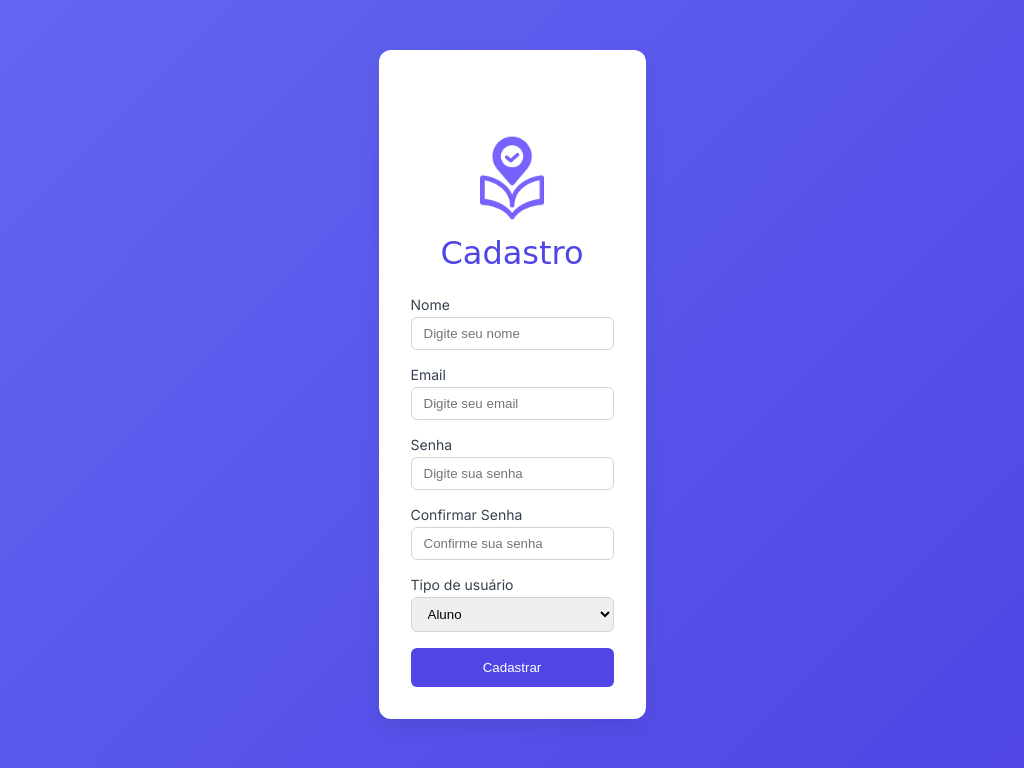
Test: Register page › shows validation error when passwords mismatch
Step 1. Select "Professor" in the dropdown → point(512, 614), box 410,596 -> 614,632
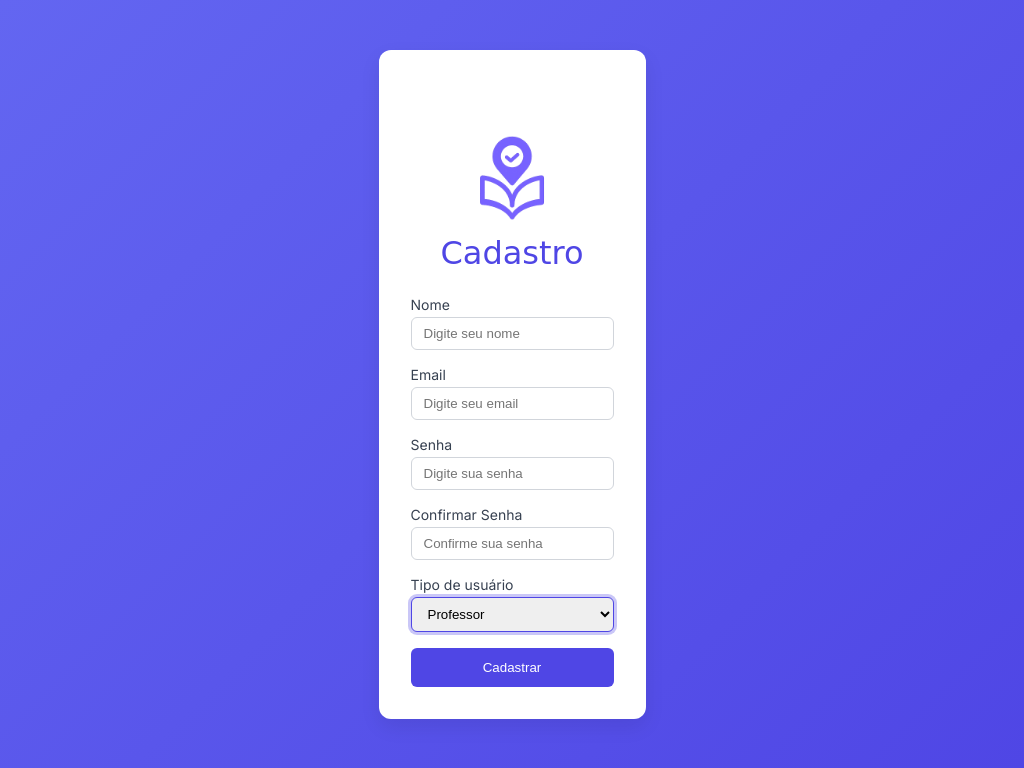
Step 2. Type "Foo" into the field with placeholder "Digite seu nome" → point(512, 333), box 410,316 -> 614,350
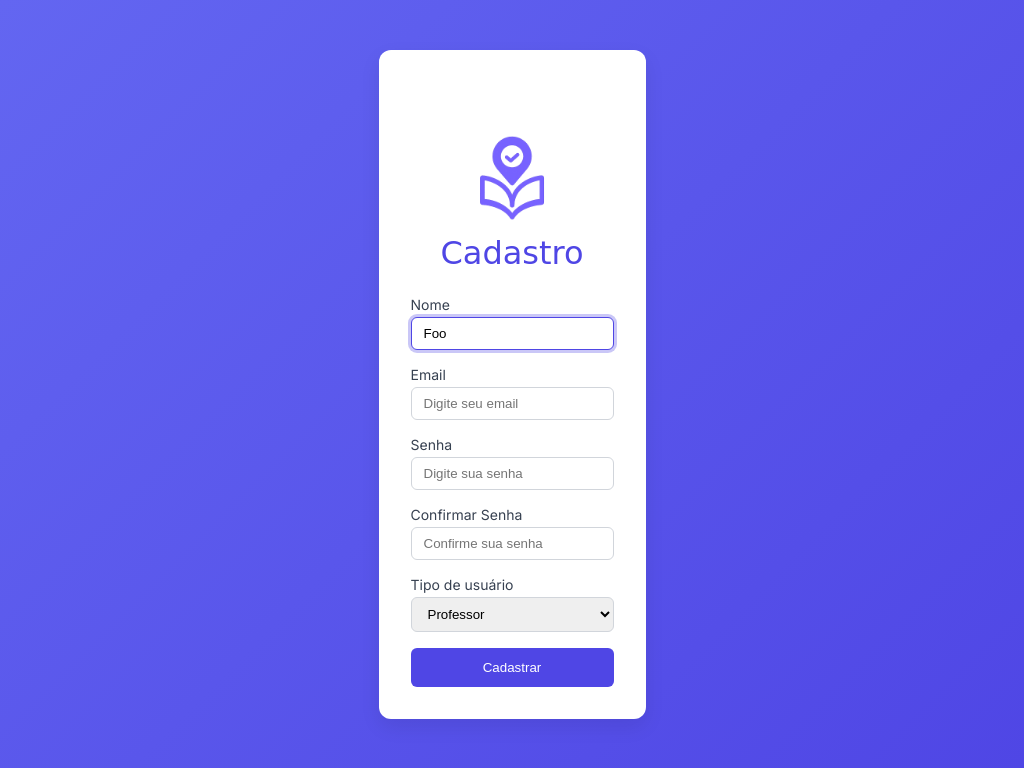
Step 3. Type "foo@test.com" into the field with placeholder "Digite seu email" → point(512, 403), box 410,386 -> 614,420
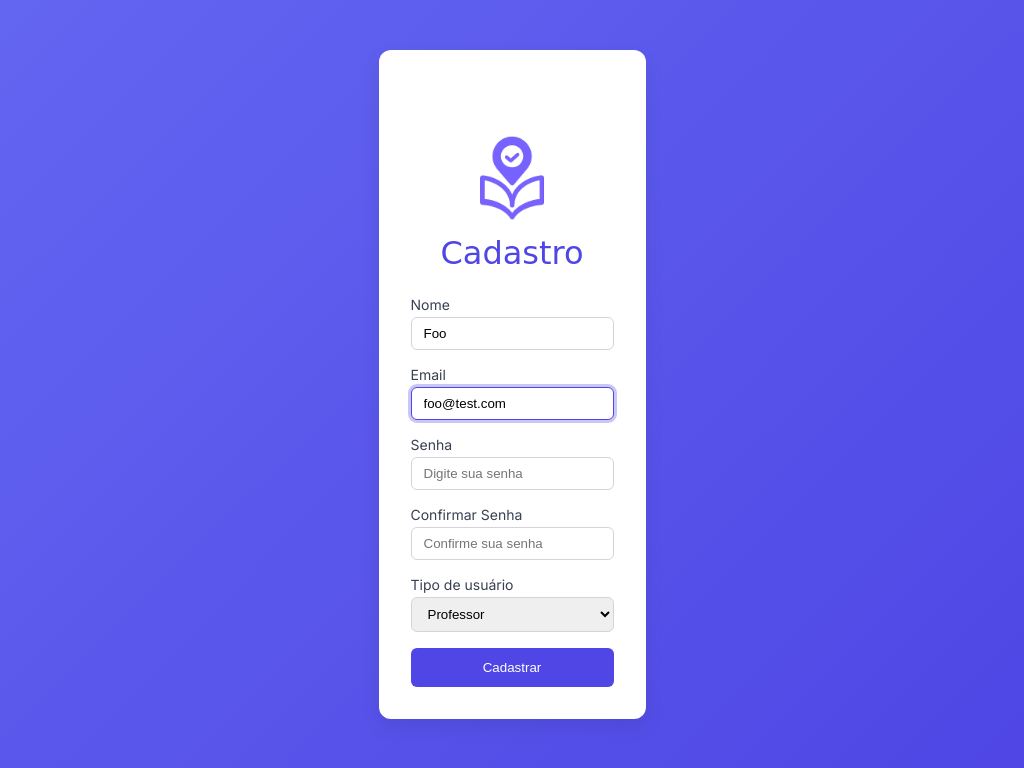
Step 4. Type "123456" into the password field with placeholder "Digite sua senha" → point(512, 473), box 410,456 -> 614,490
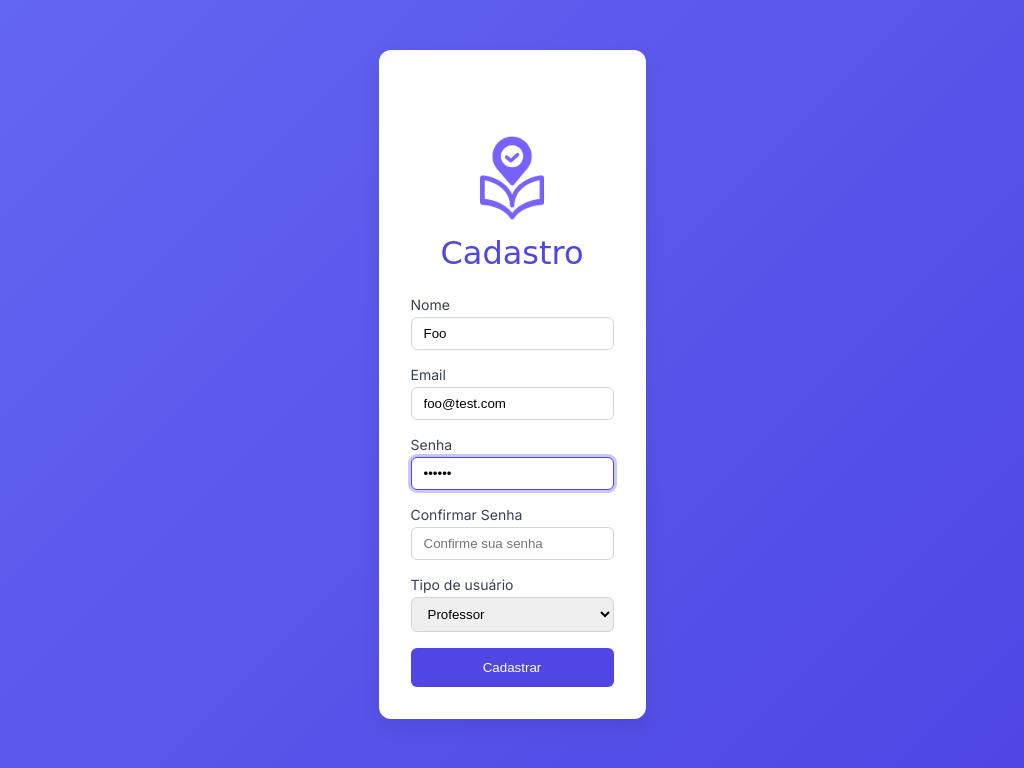
Step 5. Type "654321" into the password field with placeholder "Confirme sua senha" → point(512, 543), box 410,526 -> 614,560
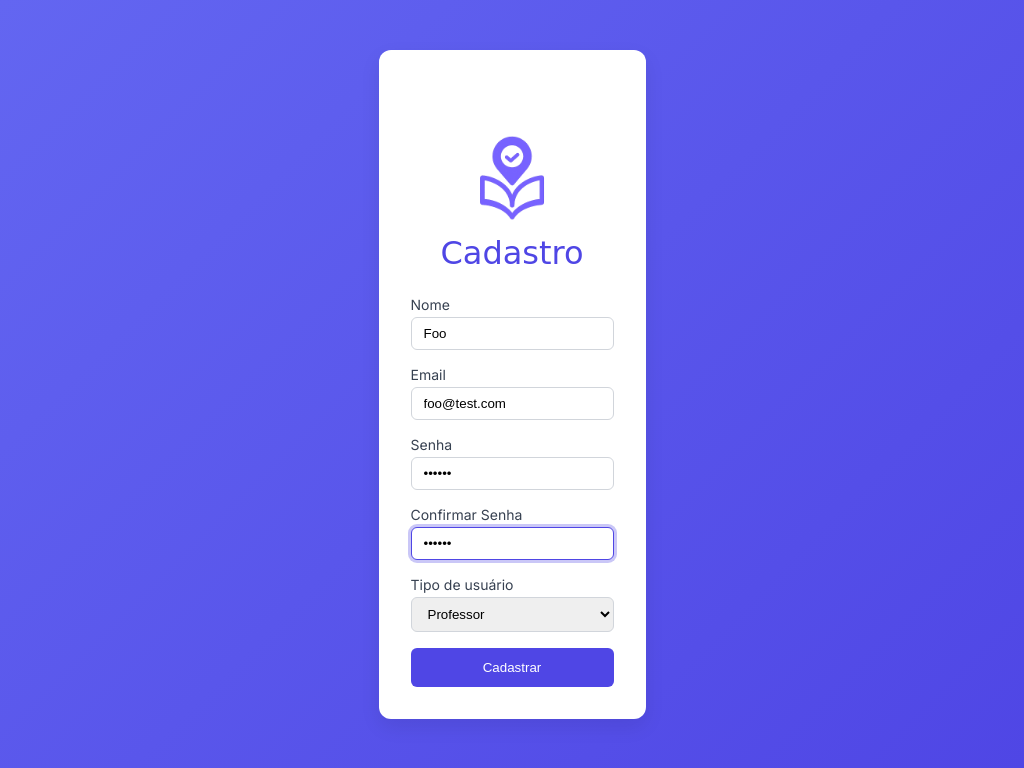
Step 6. Click the button "Cadastrar" → point(512, 667), box 410,648 -> 614,686
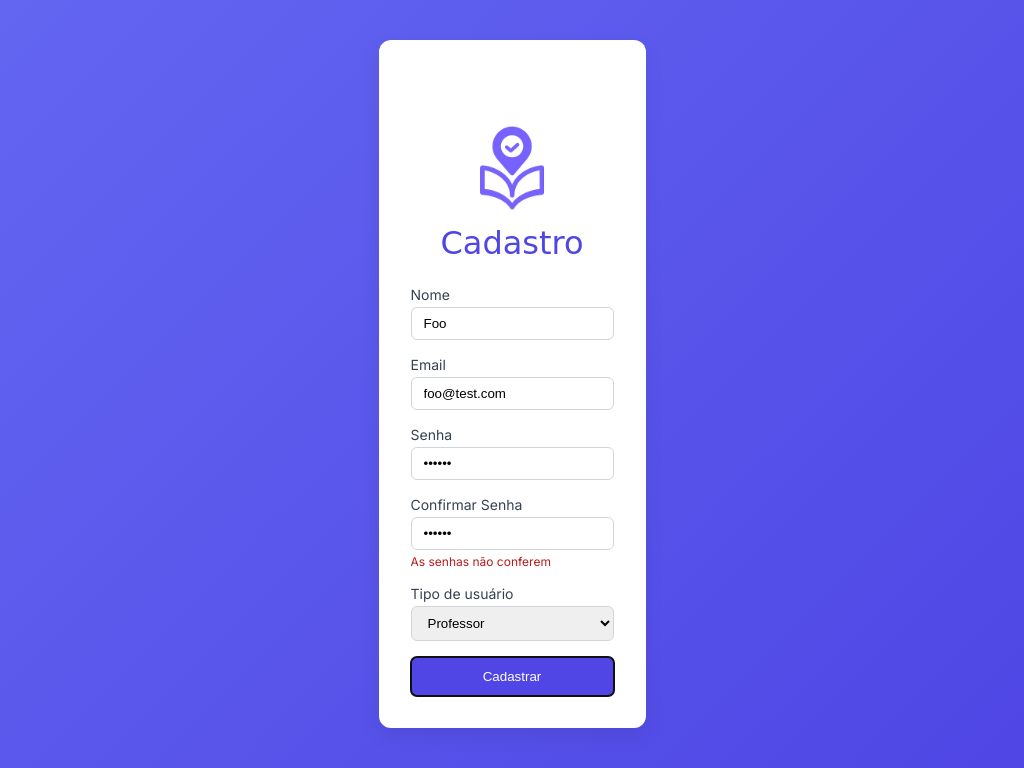
Check: the text "As senhas não conferem" is shown, box 410,554 -> 551,569
